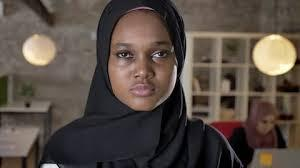No Mask: (102, 5, 191, 123)
